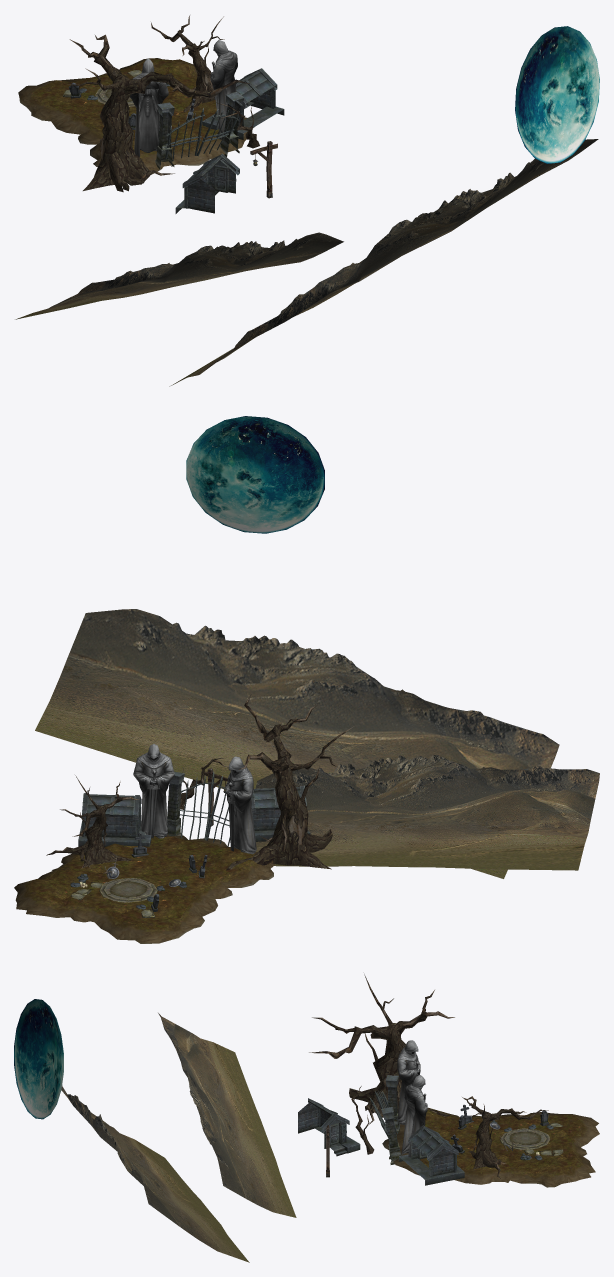
Rendered from denglu004.fbx.
3 views of the same model, one above another, from view 1: azimuth 30°, elevation 25°; view 2: azimuth 150°, elevation 25°; view 3: azimuth 270°, elevation 25° (orthographic). The views are drawn at different scales.
Parts seen in each view (by area): view 1: denglu002; view 2: denglu002; view 3: denglu002.
Boxes of the visible parts, <box> form: denglu002: <box>15,15,599,386</box>; denglu002: <box>14,416,599,943</box>; denglu002: <box>14,974,599,1262</box>.
Bounding box in the file's own units: 24.03 × 14.16 × 26.19.
